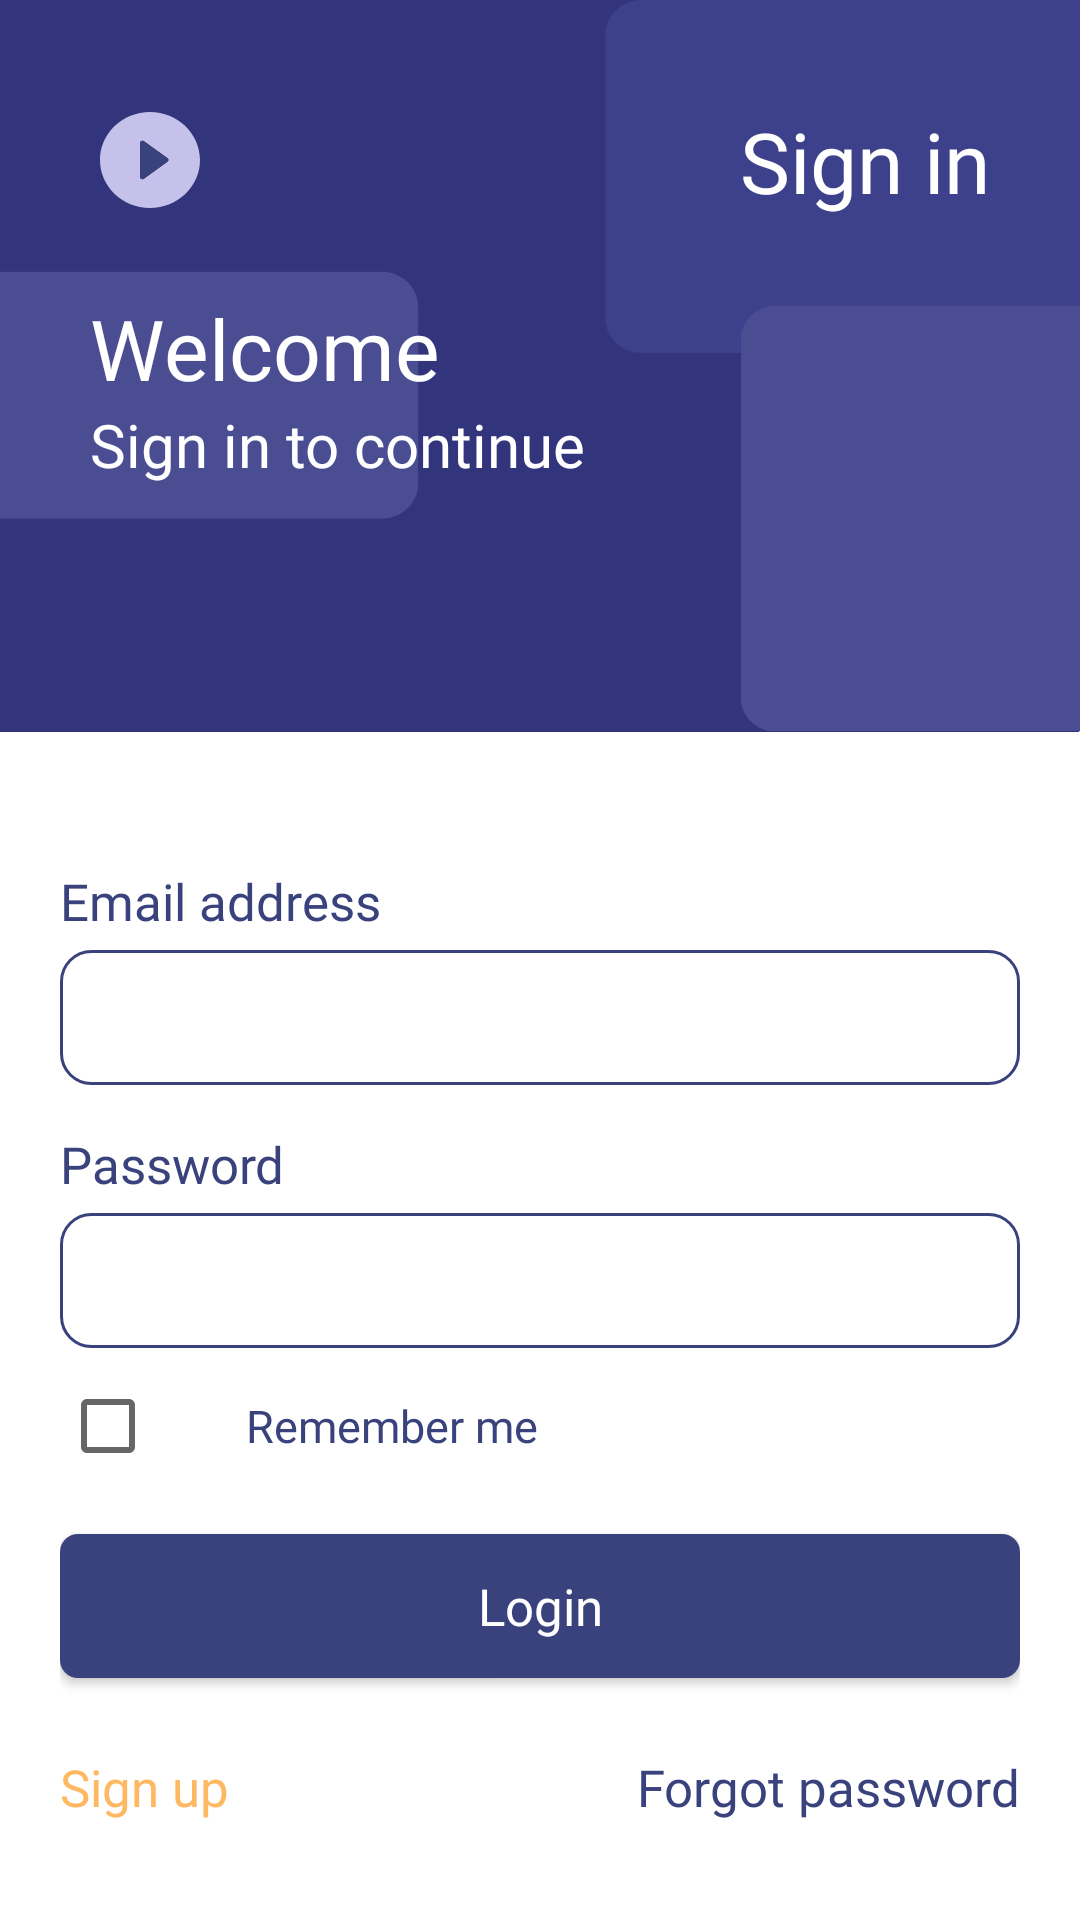

Named icons in this screenshot (1080×1920) and their centers, point (x, y):
play: point (150, 160)
